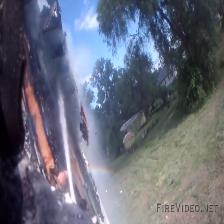smoke: (26, 0, 111, 224)
